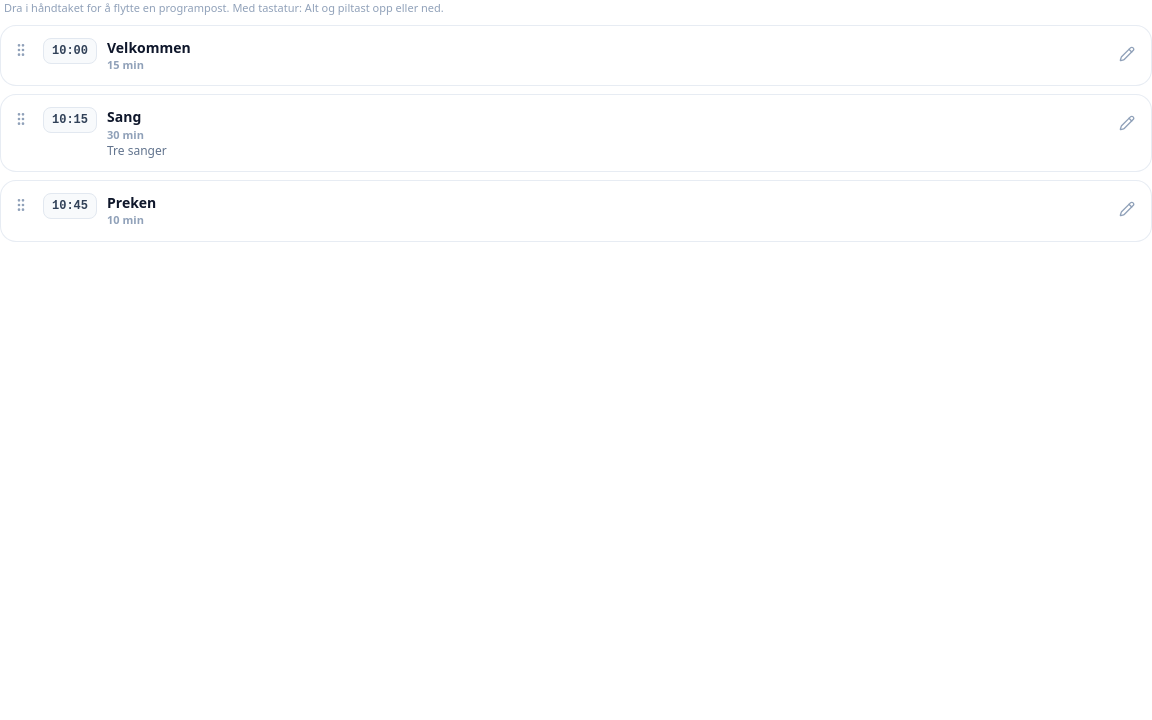
it: ProgramView › blyanten åpner dialogen med posten
Click the button named "Endre posten" in the row of "Velkommen": (1127, 54) [1111, 38, 1143, 70]
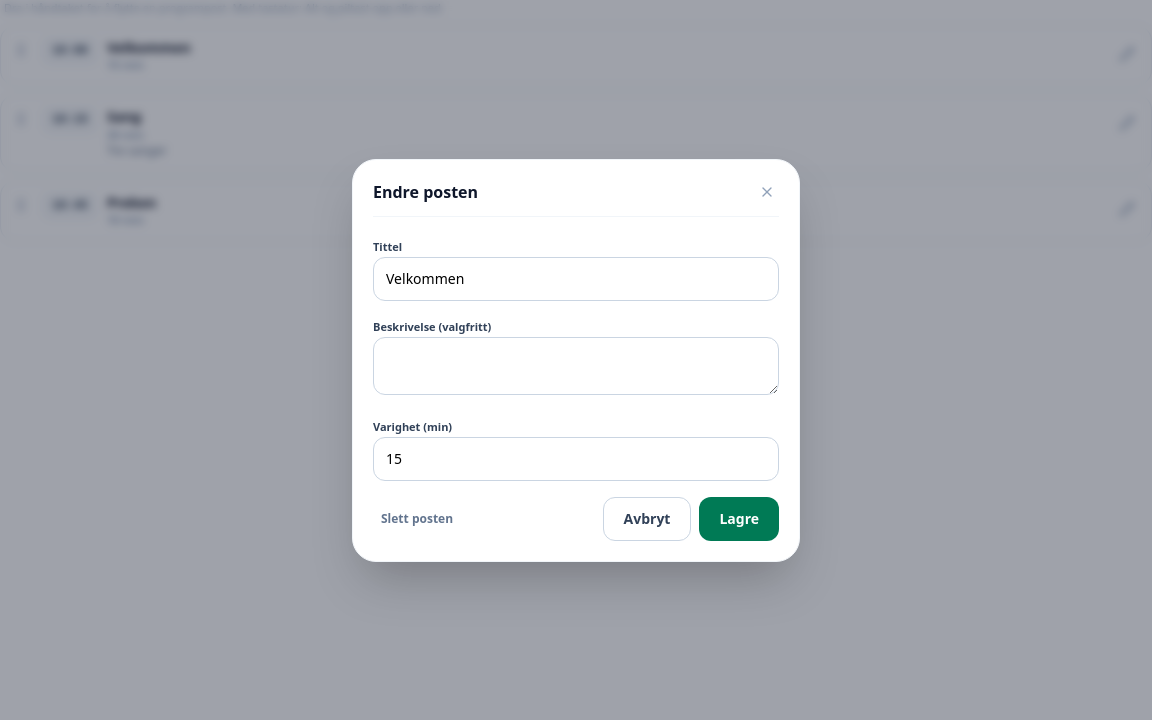
Expected: the field labelled "Tittel" holds "Velkommen", [373, 256, 779, 300]
